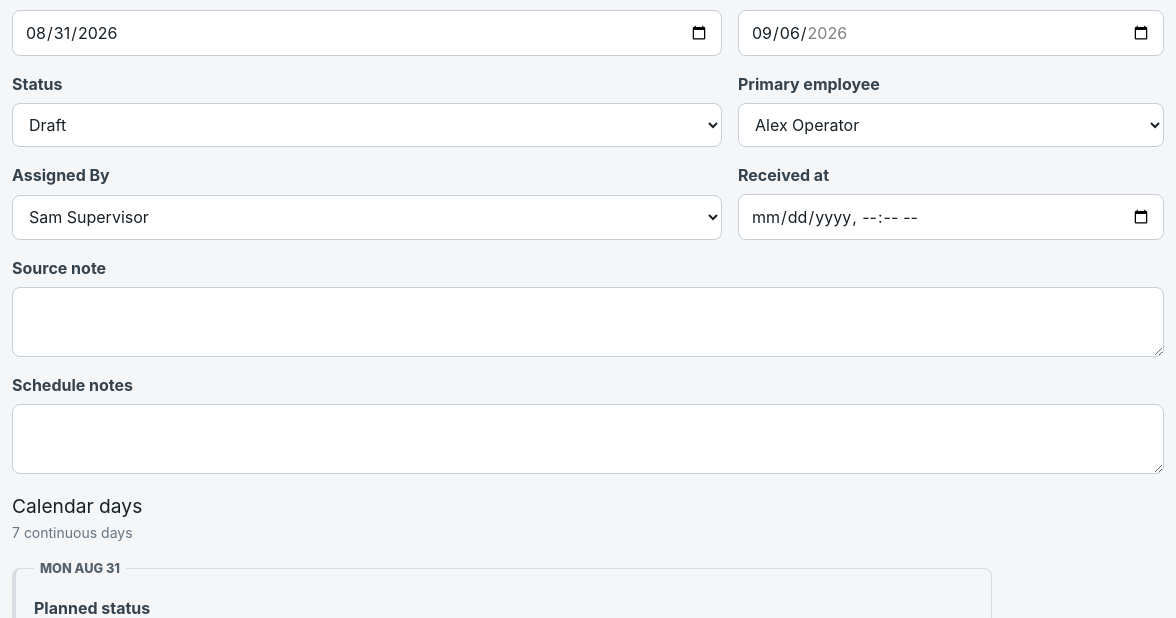
Test: ScheduleRangeForm › defaults only genuinely new dates after hydrating persisted adjacent dates
Type "2026-09-10" into the date field labelled "End Date" at [951, 33], box x1=738 y1=10 x2=1164 y2=56
(page scrolled)
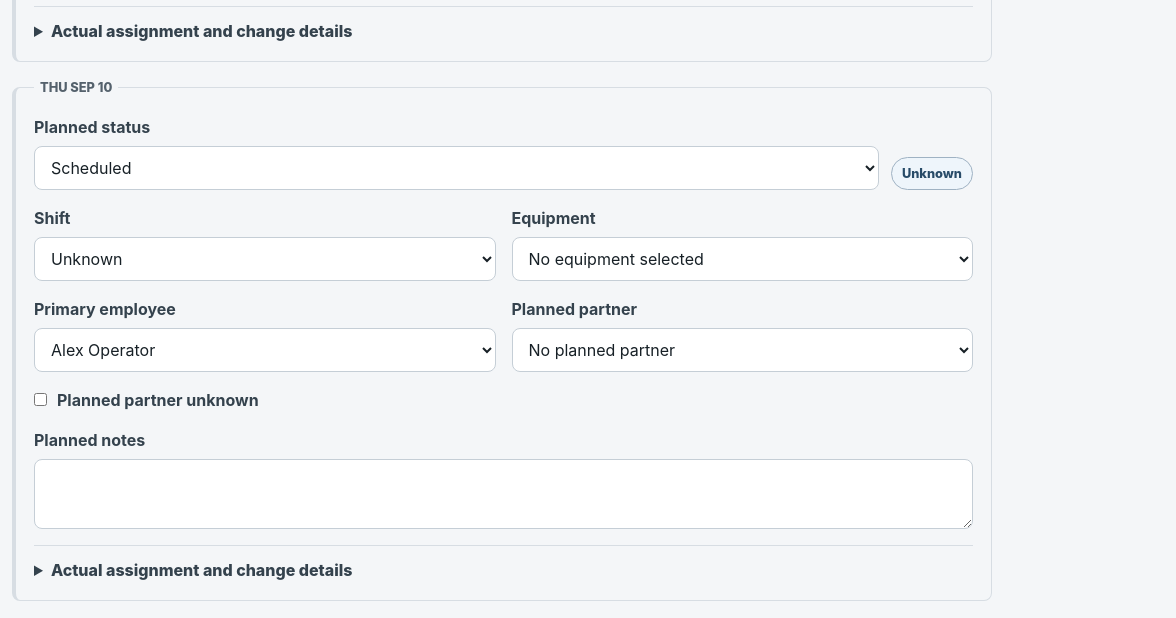
Check: the dropdown labelled "Equipment" shows "No equipment selected", box x1=512 y1=237 x2=973 y2=281
